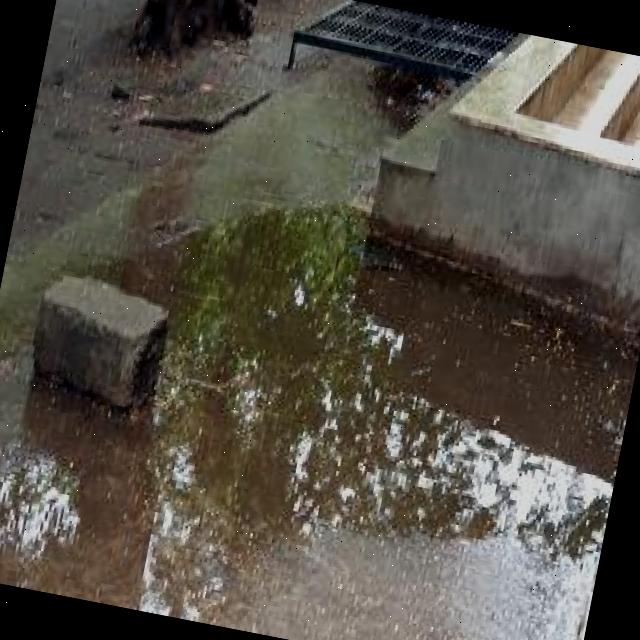stagnation: (0, 201, 640, 640)
